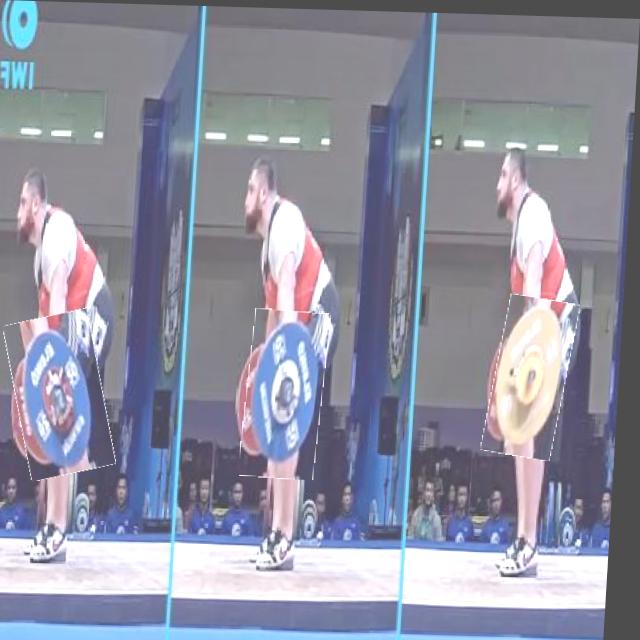barbell: (10, 311, 120, 480), (247, 308, 334, 479), (491, 293, 579, 457)
